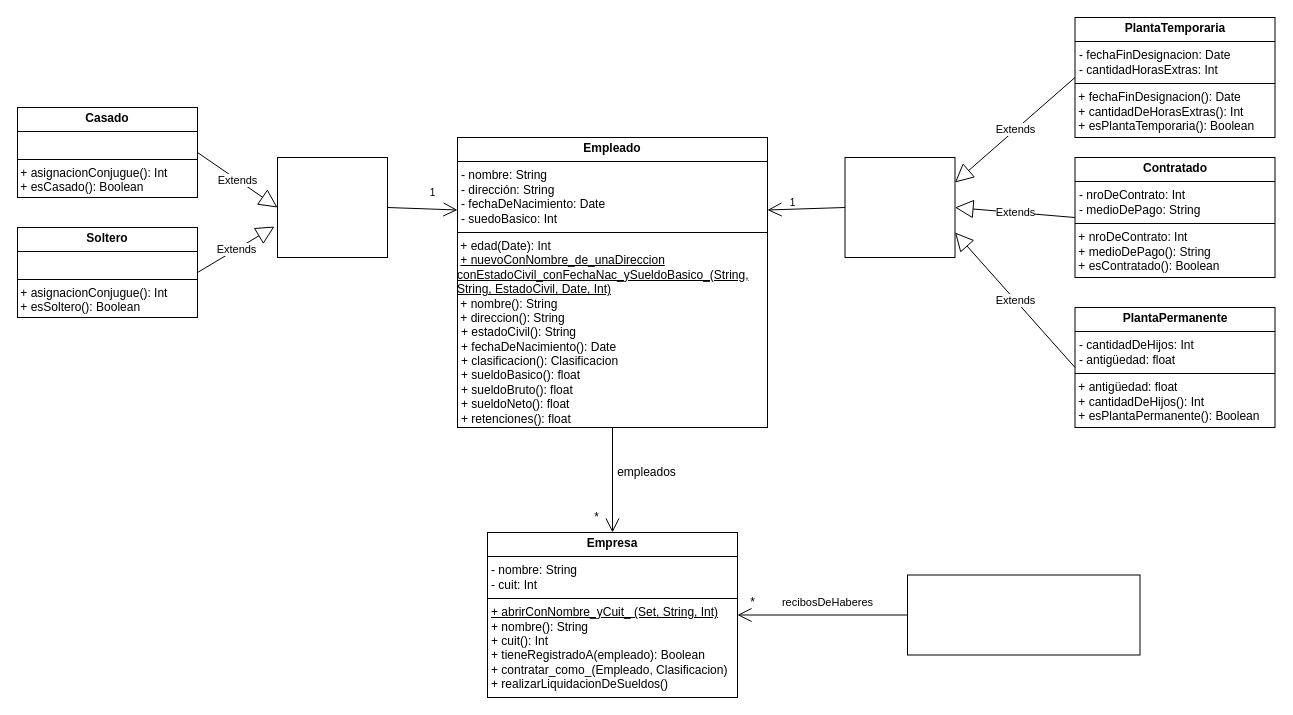
Image size: 1293x715. Some labels were removed from this diagram. Here are the shapes that lost their labels. From the top down, the centre of each, then its label:
At (x=332, y=207): "EstadoCivil".
At (x=899, y=207): "Clasificacion".
At (x=1023, y=614): "ReciboDeHaberes + generarPara(Empleado)".
